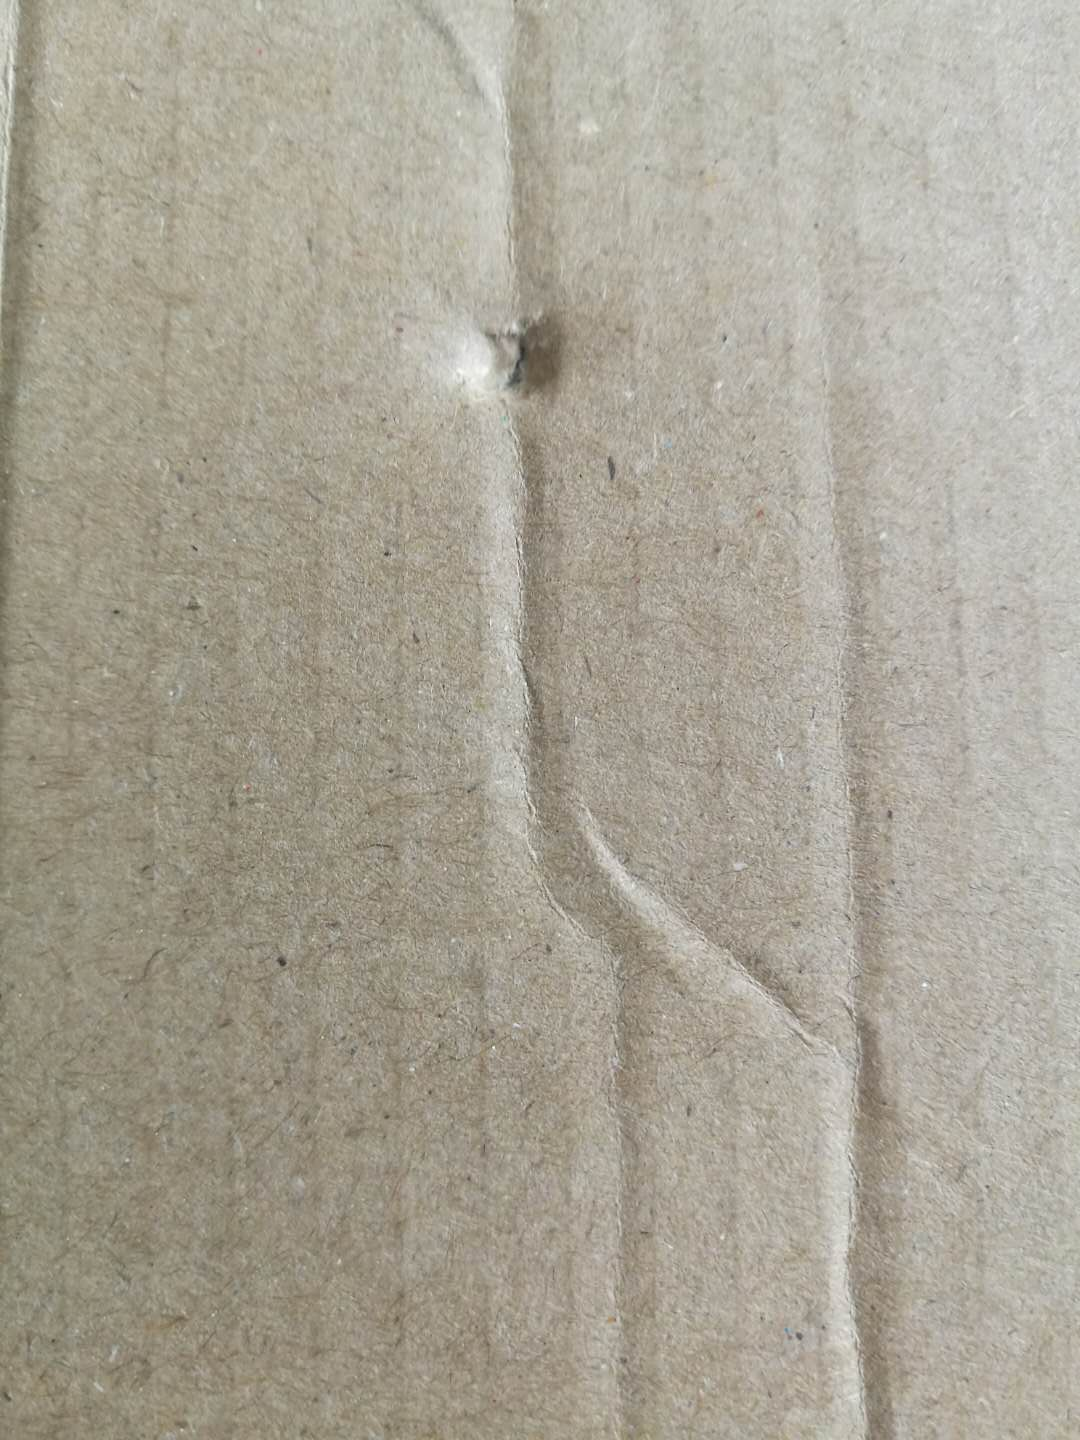defect: (405, 5, 689, 1438), (691, 338, 1037, 1435), (442, 281, 615, 424)
